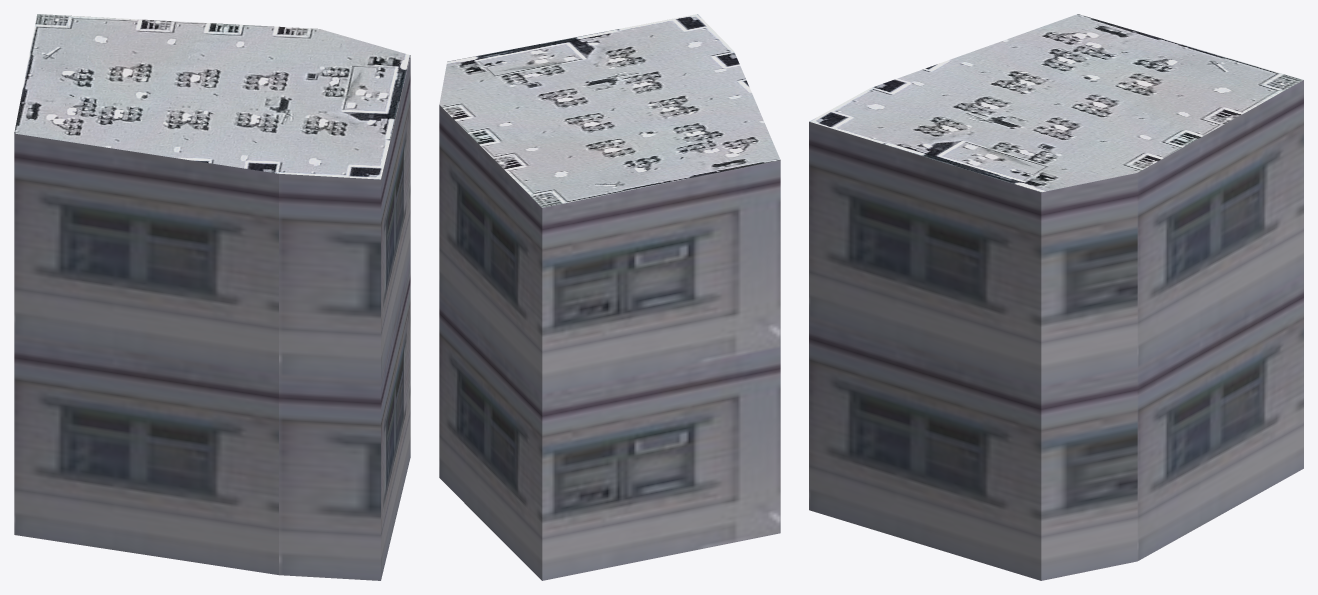
File: ResTex__3502.fbx
The picture shows the model from 3 angles, left to right: view 1: azimuth 30°, elevation 25°; view 2: azimuth 150°, elevation 25°; view 3: azimuth 270°, elevation 25°; orthographic projection. The views are drawn at different scales.
Visible parts, largest first — view 1: CityEngineMaterial_1_m, CityEngineMaterial_m; view 2: CityEngineMaterial_1_m, CityEngineMaterial_m; view 3: CityEngineMaterial_1_m, CityEngineMaterial_m.
Part boxes in pixels (left/top/right/bottom): CityEngineMaterial_1_m: left=14, top=57, right=410, bottom=580; CityEngineMaterial_m: left=14, top=14, right=410, bottom=179; CityEngineMaterial_1_m: left=439, top=105, right=780, bottom=580; CityEngineMaterial_m: left=439, top=14, right=780, bottom=207; CityEngineMaterial_1_m: left=809, top=80, right=1303, bottom=580; CityEngineMaterial_m: left=809, top=14, right=1303, bottom=192.
Size of the model in its own units: 5.91 by 6 by 6.93.
2 materials, 2 textured.
